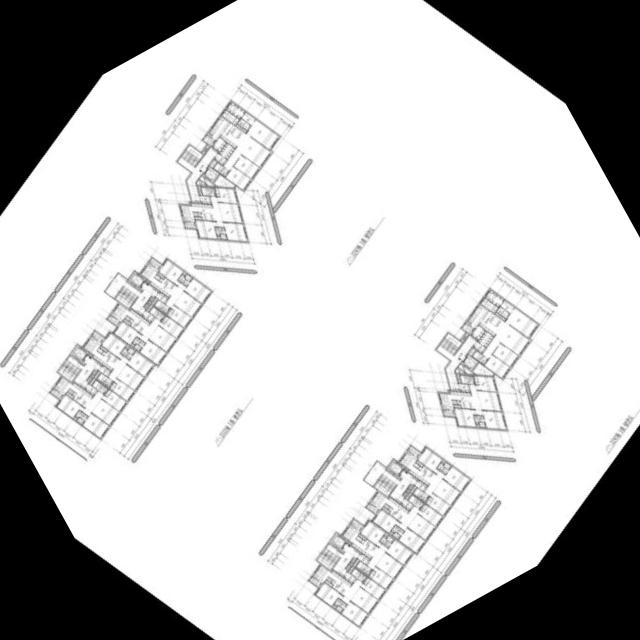background: (0, 0, 640, 640)
space_balconi: (203, 134, 216, 146), (462, 322, 475, 334), (443, 409, 456, 416), (184, 221, 197, 228)
space_bedroom: (247, 119, 280, 149), (506, 307, 538, 337), (386, 539, 413, 565), (140, 339, 167, 365), (399, 527, 426, 553), (372, 509, 401, 533), (56, 394, 85, 418), (113, 321, 142, 345), (315, 582, 344, 606), (444, 466, 471, 491), (159, 258, 184, 285), (185, 278, 212, 303), (127, 351, 154, 376), (83, 413, 110, 438), (341, 601, 368, 626), (102, 332, 127, 358), (418, 447, 443, 473), (361, 520, 385, 547), (493, 343, 519, 367), (234, 154, 260, 178), (226, 166, 252, 190), (485, 354, 510, 378), (418, 503, 443, 526), (110, 378, 135, 401), (159, 315, 184, 338), (369, 566, 394, 589), (361, 577, 386, 599), (426, 493, 451, 515), (167, 305, 192, 327), (102, 389, 127, 411), (224, 222, 248, 241), (483, 410, 507, 429), (455, 408, 477, 427), (196, 220, 218, 239), (474, 375, 497, 391), (215, 187, 238, 203)
space_dressroom: (485, 289, 504, 307), (226, 101, 245, 119)
space_elevator: (331, 533, 348, 549), (388, 459, 405, 475), (130, 271, 146, 287), (203, 166, 219, 182), (462, 354, 478, 370), (72, 345, 89, 360)
space_elevator_hall: (364, 461, 417, 502), (105, 273, 158, 314), (187, 146, 218, 202), (446, 335, 477, 390), (67, 355, 101, 387), (326, 543, 360, 575)
space_front: (214, 153, 228, 165), (473, 341, 487, 353), (142, 310, 155, 322), (401, 498, 414, 510), (156, 291, 168, 303), (99, 364, 111, 376), (415, 479, 427, 491), (358, 553, 370, 564), (85, 384, 97, 395), (344, 572, 356, 583), (459, 383, 471, 392), (200, 195, 212, 204)
space_kitchen: (83, 335, 121, 370), (399, 450, 437, 485), (342, 523, 380, 558), (141, 262, 178, 297), (209, 115, 246, 148), (468, 303, 505, 336), (370, 491, 409, 522), (313, 564, 352, 595), (54, 376, 93, 407), (111, 303, 150, 334), (180, 202, 216, 222), (439, 390, 475, 410)
space_living_room: (482, 322, 531, 358), (224, 134, 272, 170), (140, 317, 177, 352), (83, 390, 120, 425), (399, 505, 436, 540), (342, 578, 379, 613), (165, 283, 202, 317), (108, 356, 145, 390), (424, 471, 461, 505), (367, 544, 404, 578), (469, 384, 502, 415), (210, 196, 243, 226)
space_other: (221, 109, 239, 125), (480, 297, 498, 313), (478, 330, 494, 347), (220, 142, 235, 159), (473, 363, 494, 375), (214, 175, 235, 187), (472, 325, 486, 340), (213, 137, 227, 152), (199, 175, 216, 185), (458, 363, 475, 373), (128, 280, 142, 291), (387, 468, 401, 479), (71, 354, 85, 364), (330, 542, 344, 552), (495, 312, 506, 320), (236, 124, 247, 132), (202, 145, 210, 154), (461, 333, 469, 342), (455, 367, 465, 373), (410, 485, 417, 493), (469, 347, 476, 355), (89, 377, 96, 385), (94, 370, 101, 378), (210, 159, 217, 167), (348, 565, 355, 573), (197, 179, 206, 185), (151, 297, 158, 304), (405, 492, 412, 499), (100, 346, 108, 352), (157, 272, 165, 278), (416, 460, 424, 466), (325, 580, 333, 586), (353, 558, 359, 566), (383, 507, 390, 513), (147, 304, 153, 311), (124, 319, 131, 325), (67, 392, 74, 398), (359, 534, 366, 540), (198, 185, 202, 195), (457, 373, 461, 383), (195, 216, 202, 219), (454, 404, 461, 407), (144, 303, 148, 308), (93, 369, 97, 374), (403, 491, 407, 496), (351, 557, 355, 562), (409, 484, 413, 489), (442, 459, 446, 463), (406, 488, 410, 492), (467, 320, 471, 324), (130, 343, 134, 347), (90, 373, 94, 377), (147, 300, 151, 304), (208, 132, 212, 136), (126, 344, 130, 348), (87, 377, 91, 381), (73, 416, 77, 420), (150, 296, 154, 300), (183, 271, 187, 275), (346, 565, 350, 569), (389, 531, 393, 535), (349, 561, 353, 565), (476, 424, 480, 427), (385, 532, 388, 536), (332, 605, 336, 608), (218, 236, 221, 239), (89, 353, 91, 356), (146, 280, 149, 282), (348, 541, 350, 544), (405, 468, 407, 470)
space_outdoor_room: (408, 445, 421, 457), (351, 519, 364, 530), (149, 257, 162, 268), (92, 331, 105, 342), (309, 576, 322, 587), (367, 503, 379, 514), (51, 388, 63, 399), (108, 315, 120, 326)
space_staircase: (178, 145, 203, 172), (437, 333, 462, 360), (116, 286, 138, 308), (375, 474, 397, 496), (317, 548, 339, 569), (58, 360, 80, 381)
space_toilet: (496, 300, 515, 318), (238, 112, 256, 130), (413, 487, 429, 501), (408, 494, 424, 508), (351, 568, 366, 582), (155, 299, 170, 313), (150, 306, 165, 320), (214, 162, 229, 176), (473, 350, 488, 364), (92, 380, 108, 393), (356, 561, 372, 574), (97, 373, 113, 386), (178, 274, 190, 286), (215, 227, 227, 239), (474, 415, 486, 427), (437, 462, 449, 474), (201, 187, 216, 196), (460, 375, 475, 384), (380, 535, 391, 547), (121, 347, 132, 359), (334, 598, 347, 608), (391, 525, 404, 535), (75, 410, 88, 420), (133, 337, 145, 347), (386, 535, 394, 543), (134, 343, 142, 351), (127, 347, 135, 355), (393, 531, 401, 539), (443, 462, 451, 469), (77, 417, 85, 424), (336, 605, 344, 612), (185, 274, 192, 281)
